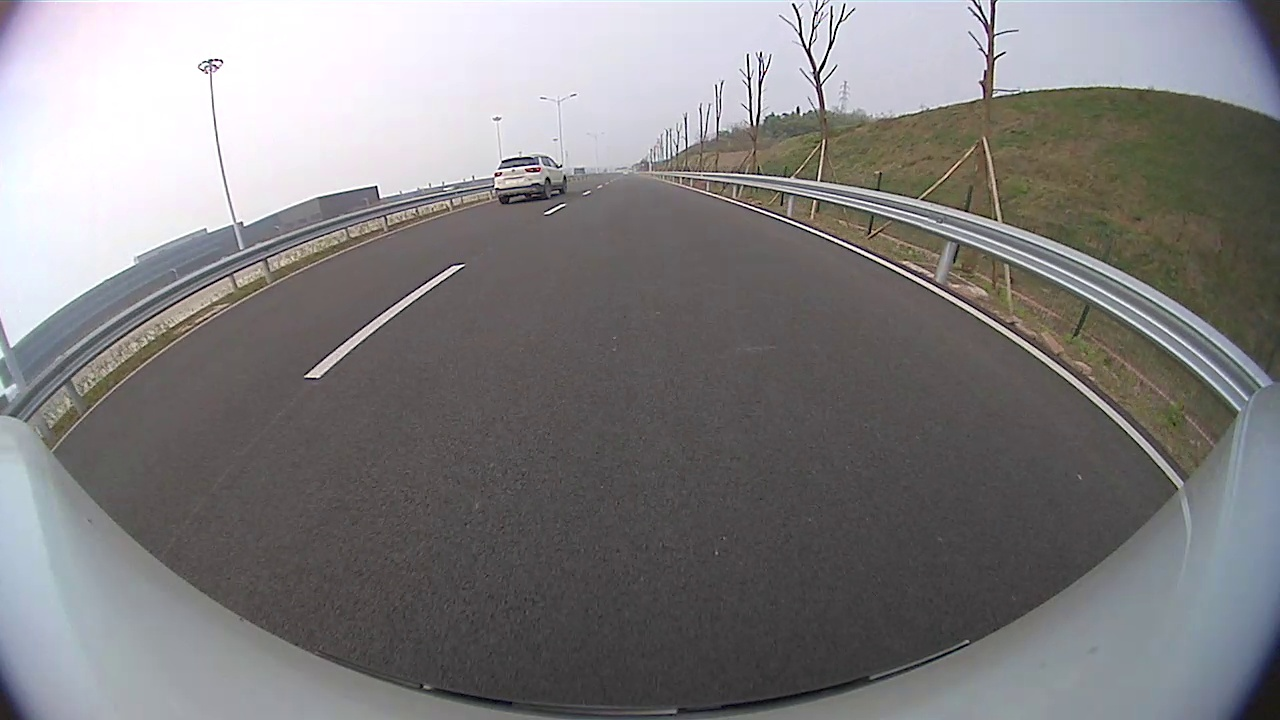car: (492, 154, 568, 206)
rear: (543, 178, 553, 199)
